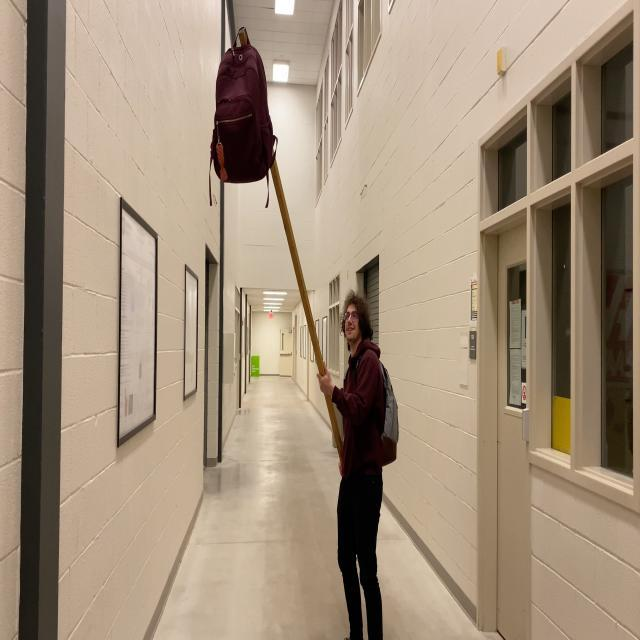Backpacks: (210, 44, 276, 186), (380, 360, 400, 468)
